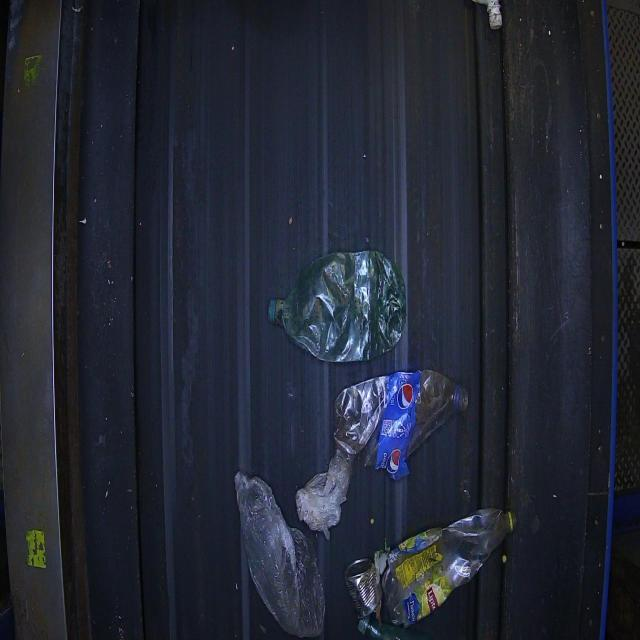Metal-waste: (343, 505, 514, 637)
cardboard: (2, 0, 628, 639)
other-trash: (267, 248, 407, 364)
